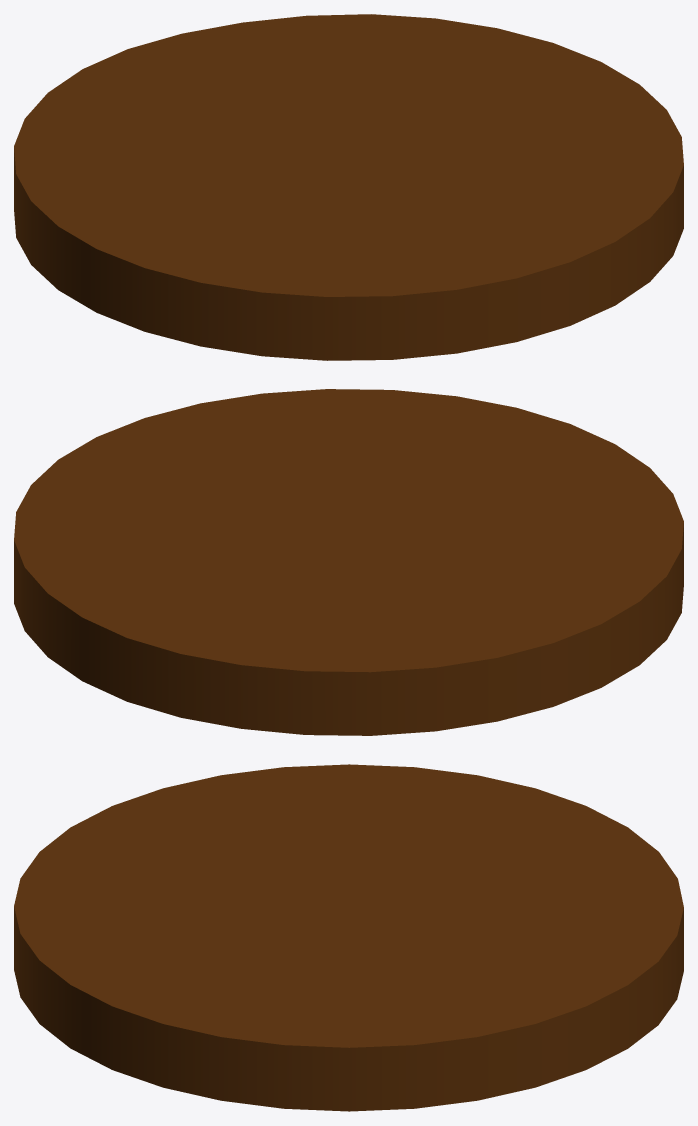
3 views of the same model, one above another, from view 1: azimuth 30°, elevation 25°; view 2: azimuth 150°, elevation 25°; view 3: azimuth 270°, elevation 25° (orthographic).
Parts seen in each view (by area): view 1: Wood; view 2: Wood; view 3: Wood.
Boxes of the visible parts, bbox=[...] form: Wood: bbox=[14, 14, 683, 360]; Wood: bbox=[14, 389, 683, 735]; Wood: bbox=[14, 764, 683, 1111].
Bounding box in the file's own units: 1 × 0.107 × 0.9991.
